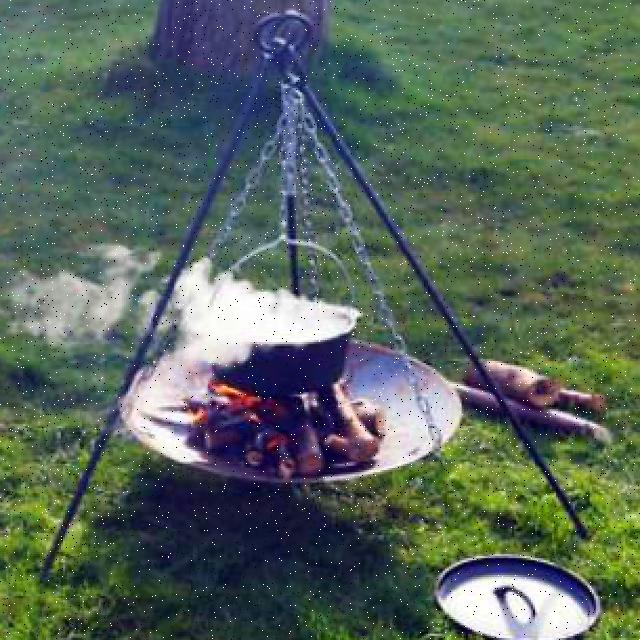smoke: (0, 231, 336, 378)
